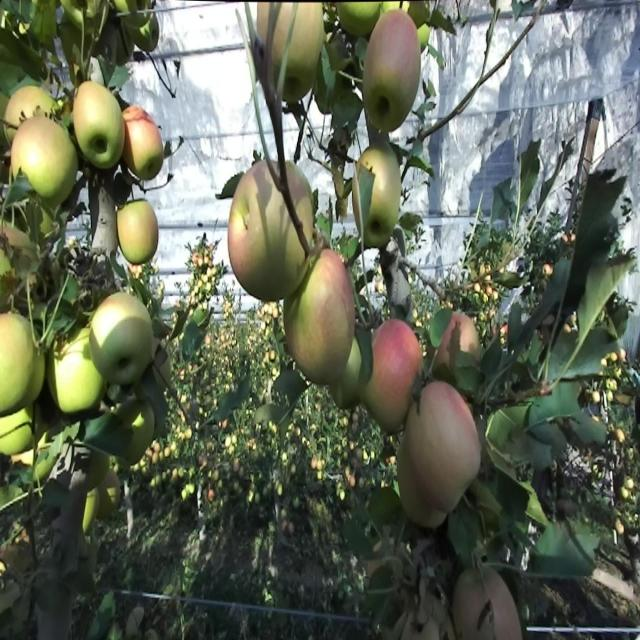apple: (284, 248, 358, 389), (364, 13, 423, 137), (366, 312, 424, 434), (92, 291, 158, 389), (48, 321, 108, 418), (368, 13, 423, 114), (24, 120, 84, 212), (0, 312, 46, 418), (372, 319, 424, 412), (76, 84, 127, 176), (48, 333, 100, 418), (360, 148, 403, 249), (280, 6, 325, 100), (284, 13, 324, 110), (12, 120, 60, 199), (364, 70, 420, 137), (40, 120, 80, 212), (94, 298, 138, 370), (280, 205, 316, 292), (436, 312, 482, 379), (12, 120, 51, 197), (124, 113, 165, 185), (120, 198, 160, 268), (368, 156, 403, 233), (332, 342, 367, 412), (452, 568, 486, 636), (364, 191, 397, 254), (8, 84, 47, 135), (316, 63, 351, 117), (124, 399, 156, 453), (272, 6, 295, 69), (96, 476, 123, 524), (340, 6, 377, 41), (280, 74, 312, 112), (364, 214, 393, 254), (284, 74, 314, 112), (36, 205, 59, 244), (256, 6, 274, 48), (84, 490, 98, 535), (408, 6, 431, 30)
